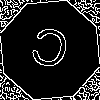C: (24, 24, 73, 80)
